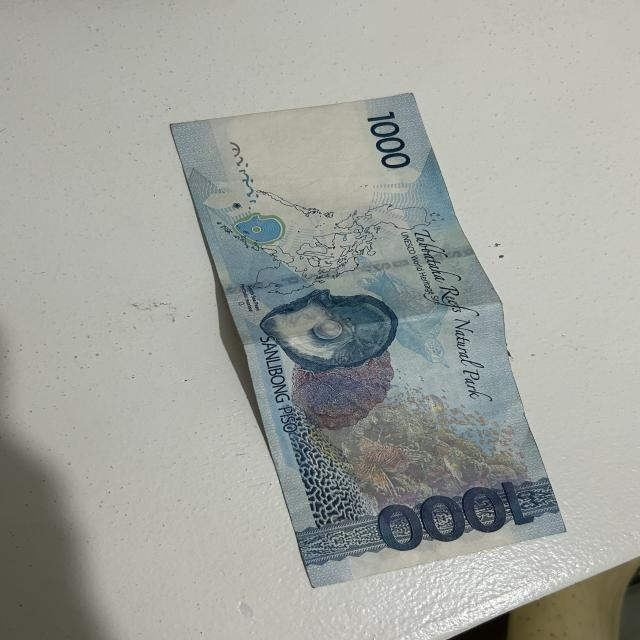1000_pearl: (267, 298, 393, 372)
1000_pearl_watermark: (227, 209, 292, 252)
